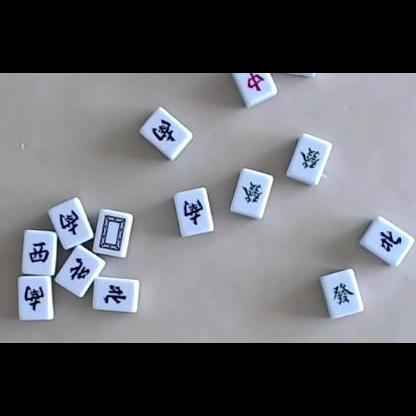2z: (152, 118, 176, 143), (58, 209, 80, 236), (183, 198, 203, 225), (24, 284, 44, 311)
3z: (29, 242, 49, 264)
4z: (378, 230, 403, 253), (104, 284, 127, 305), (70, 257, 90, 281)
5z: (98, 214, 126, 251)
6z: (332, 282, 354, 305), (241, 182, 263, 204), (300, 146, 320, 169)
7z: (245, 73, 264, 92)
